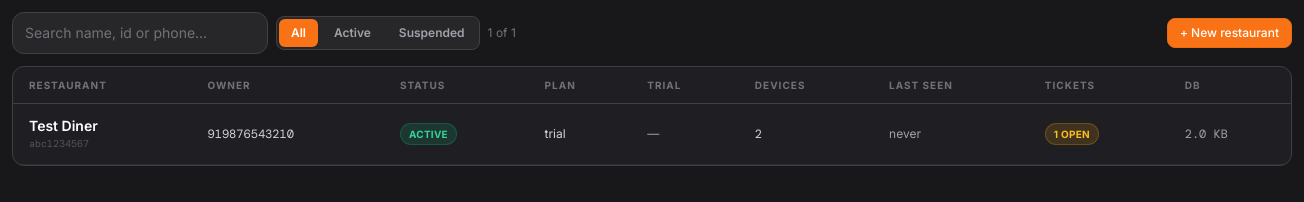
Test case: lists restaurants and filters by text
Expected: the text "Test Diner" is shown, [29, 116, 98, 136]
Type "zzz" into the field named "Search restaurants" at {"x": 140, "y": 33}, box [12, 12, 268, 54]
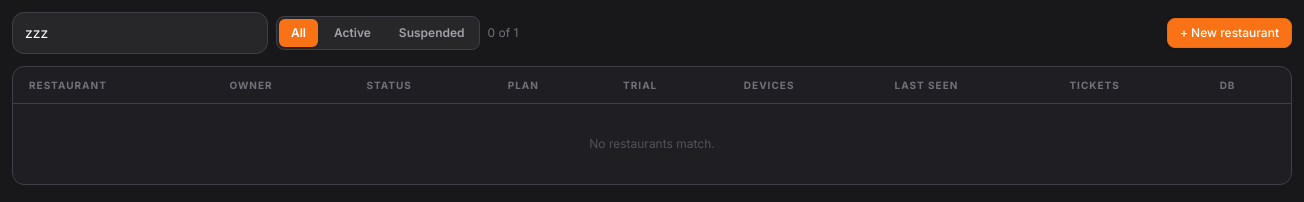
Expected: the text "No restaurants match." is shown, [589, 136, 715, 151]
